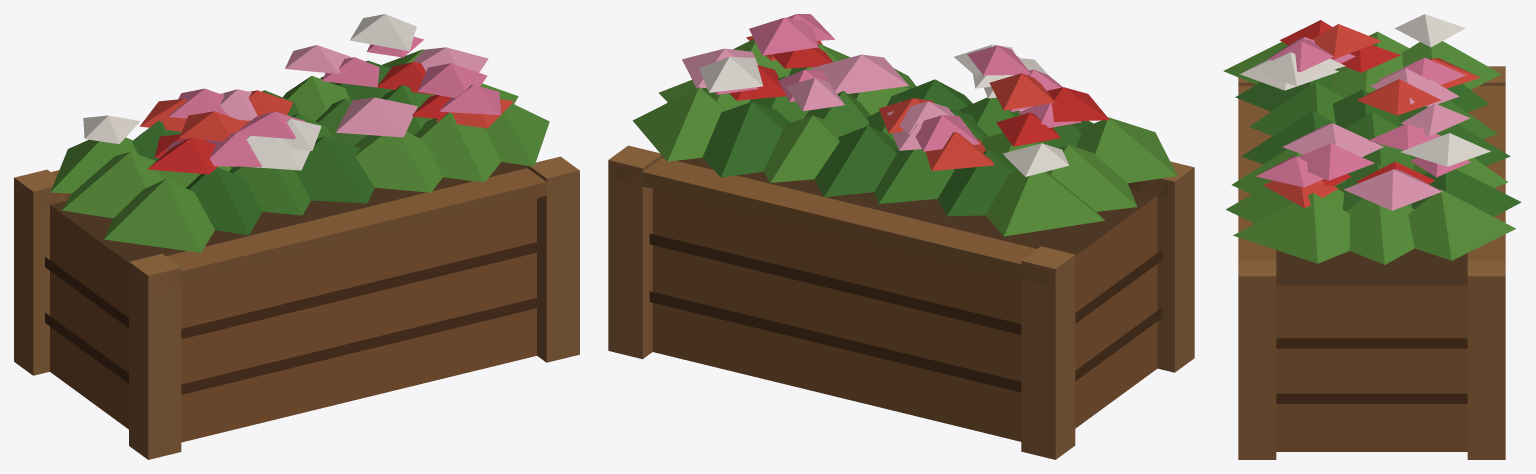
Rendered from town_planter.glb.
3 views of the same model, side by side, from view 1: azimuth 30°, elevation 25°; view 2: azimuth 150°, elevation 25°; view 3: azimuth 270°, elevation 25° (orthographic). The views are drawn at different scales.
Parts seen in each view (by area): view 1: town_planter; view 2: town_planter; view 3: town_planter.
Boxes of the visible parts, <box> form: town_planter: <box>14,14,579,459</box>; town_planter: <box>608,14,1194,459</box>; town_planter: <box>1223,14,1521,459</box>.
Size of the model in its own units: 1.38 by 0.8247 by 0.7812.
